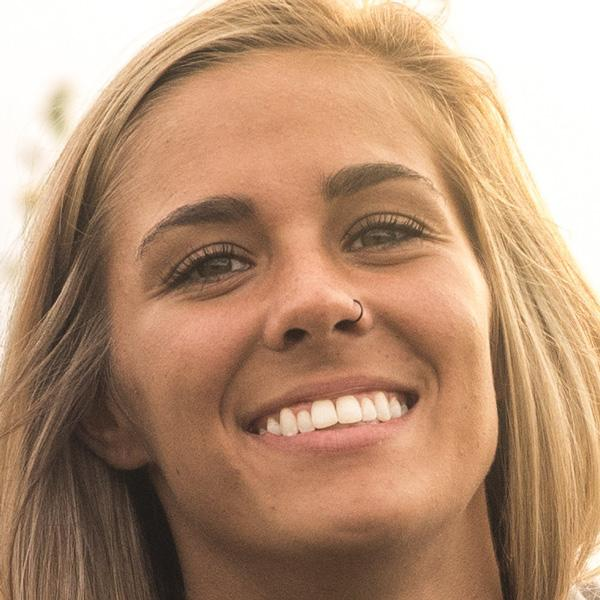Eyes: (159, 232, 266, 298), (331, 208, 435, 263)
